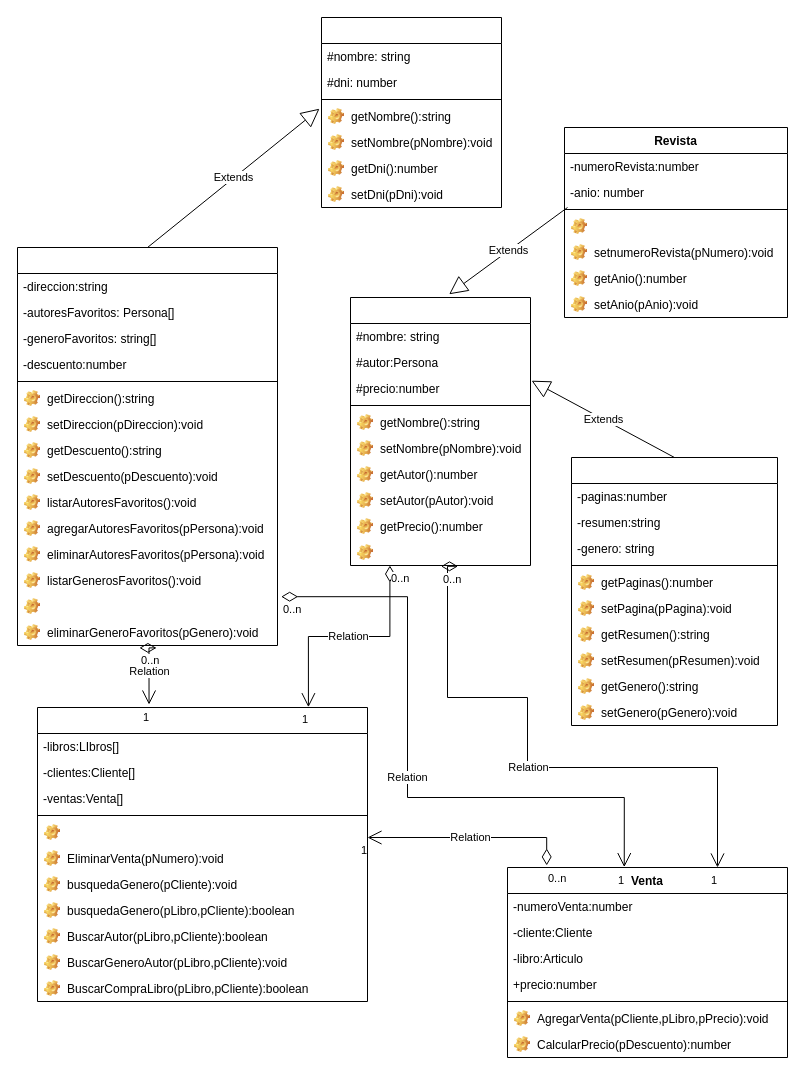
Some shapes in this 805 by 1078 pixel diagram are drawn without their labels. Here are the shapes that lost their labels. From the top down, the box of each, then its label:
(320, 16, 502, 208): Persona
(564, 213, 787, 239): getnumeroRevista():number
(16, 246, 278, 646): Cliente
(350, 296, 530, 566): Articulo
(350, 539, 530, 565): setPrecio(pPrecio):void
(17, 593, 277, 619): agregarGeneroFavoritos(pGenero):void
(570, 456, 778, 726): Libro
(37, 819, 367, 845): AgregarVenta(pNumero,pVenta):void
(36, 706, 368, 1002): Libreria
